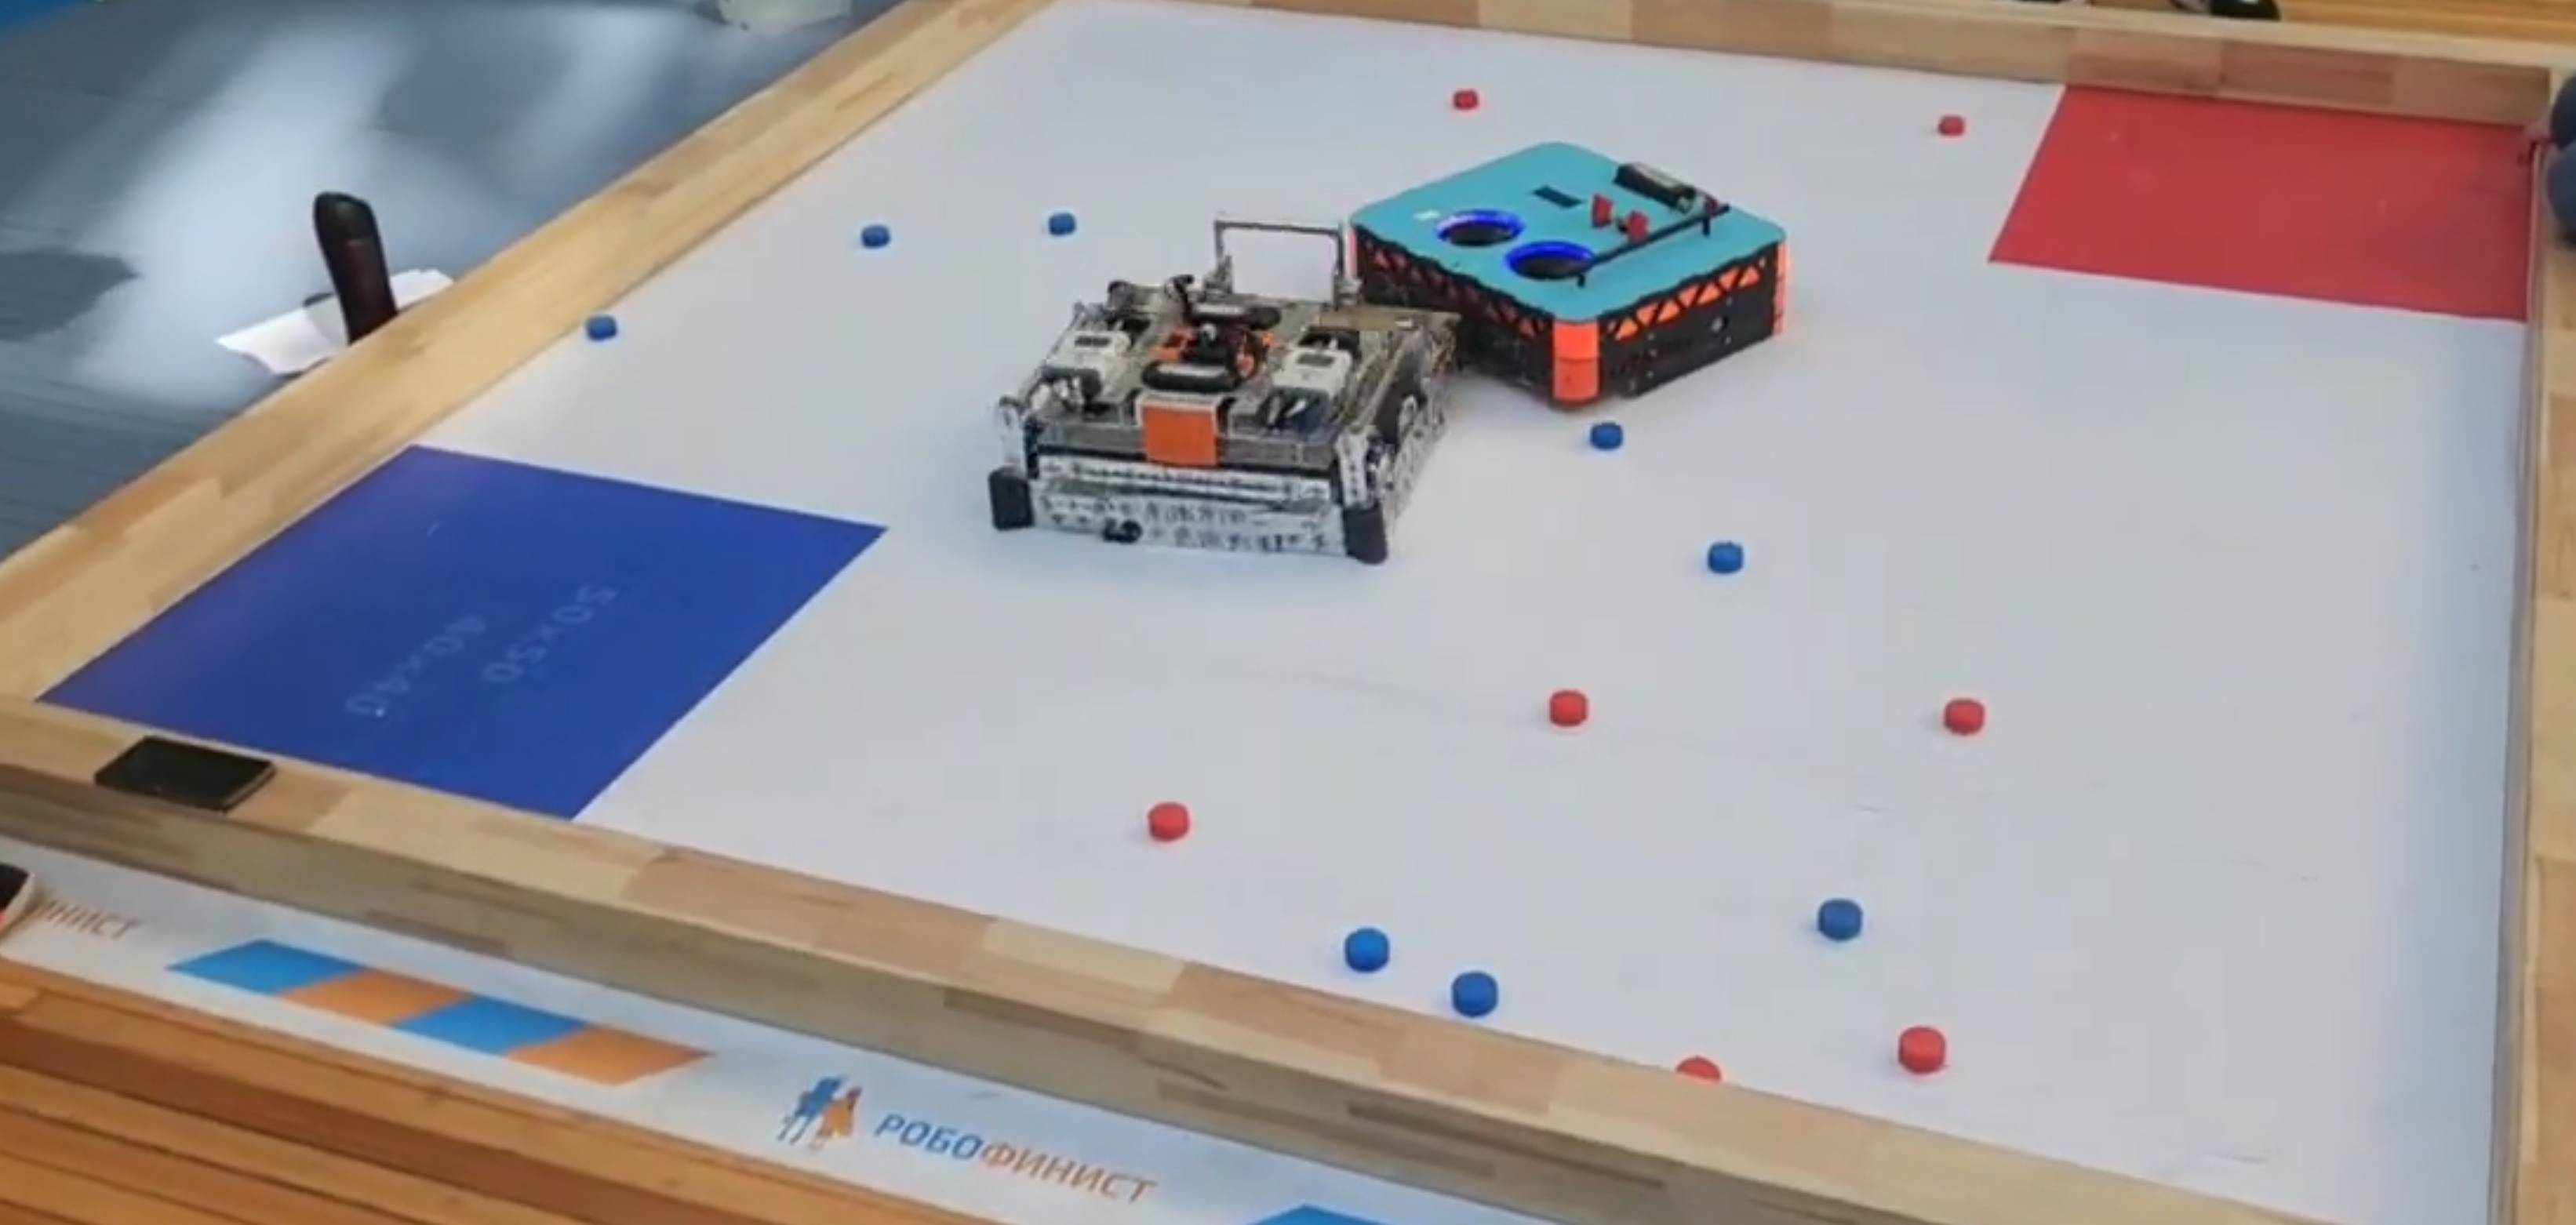base: (34, 445, 884, 821), (1989, 80, 2535, 322)
puck: (1893, 1026, 1948, 1071), (1454, 966, 1500, 1018), (1342, 926, 1391, 972), (1815, 897, 1863, 941), (1147, 801, 1188, 841), (1546, 690, 1590, 726), (1705, 540, 1745, 578), (1940, 696, 1981, 727), (1584, 420, 1621, 450), (585, 310, 614, 340), (1935, 112, 1966, 136), (859, 225, 889, 248), (1451, 89, 1477, 108), (1046, 212, 1069, 228)
